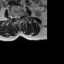CCS_stenosis: (16, 13, 18, 21)
LFS_normal: (20, 12, 22, 18)
LLS_normal: (18, 13, 20, 20)
RFS_normal: (13, 14, 15, 20)
RLS_normal: (15, 13, 16, 21)
